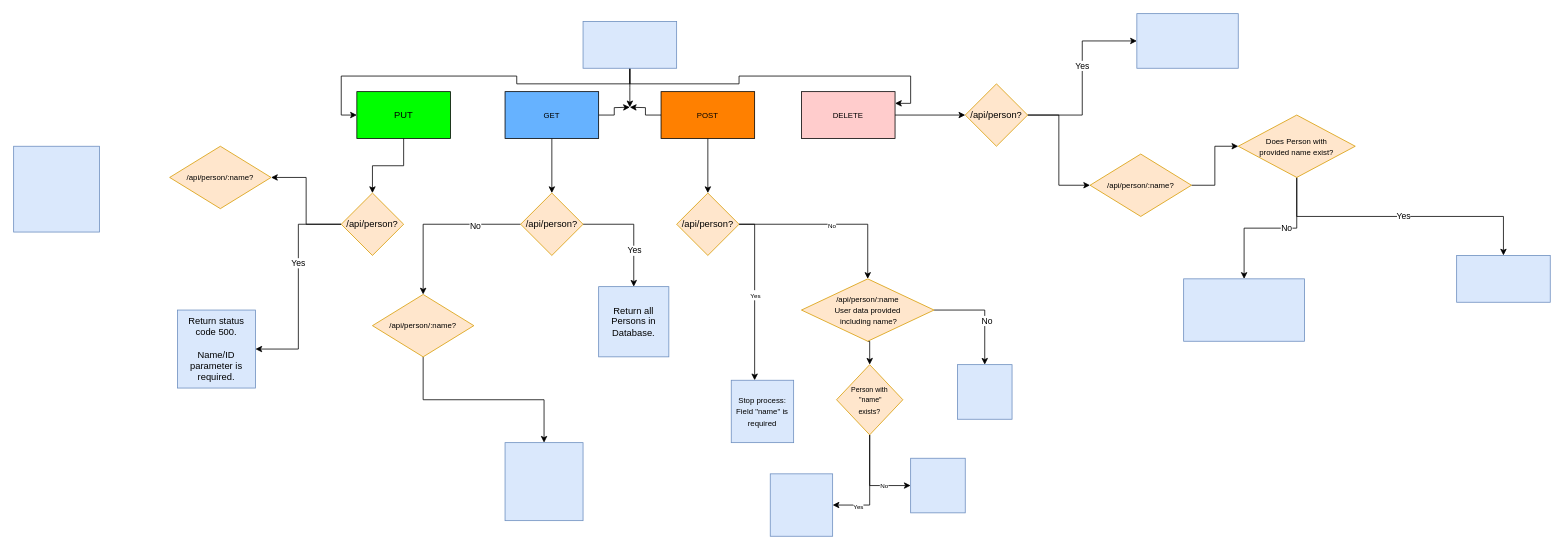
This 1564x550 diagram has some shape labels left out. Each missing label, with the box of its shape:
API ENDPOINTS: (582, 21, 677, 68)
Delete existing Person.: (1456, 255, 1550, 302)
field "name" missing.: (957, 364, 1012, 419)
Person created.: (910, 457, 965, 513)
Returns Person with the given name paramater.: (504, 442, 583, 521)
Stop process: A "name" is required.: (1136, 13, 1238, 68)
Stop process: Person exists.: (769, 473, 833, 536)
Stop process: Person with provided name doesn't exist.: (1183, 278, 1305, 341)
Update user with name.: (13, 145, 99, 232)
